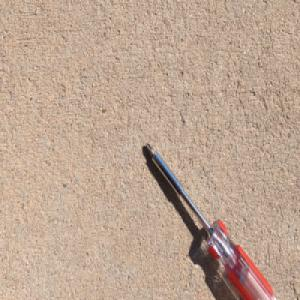Screwdriver: (144, 140, 277, 300)
